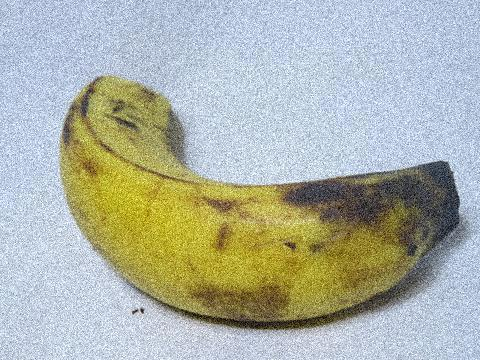ripe: (45, 64, 468, 339)
